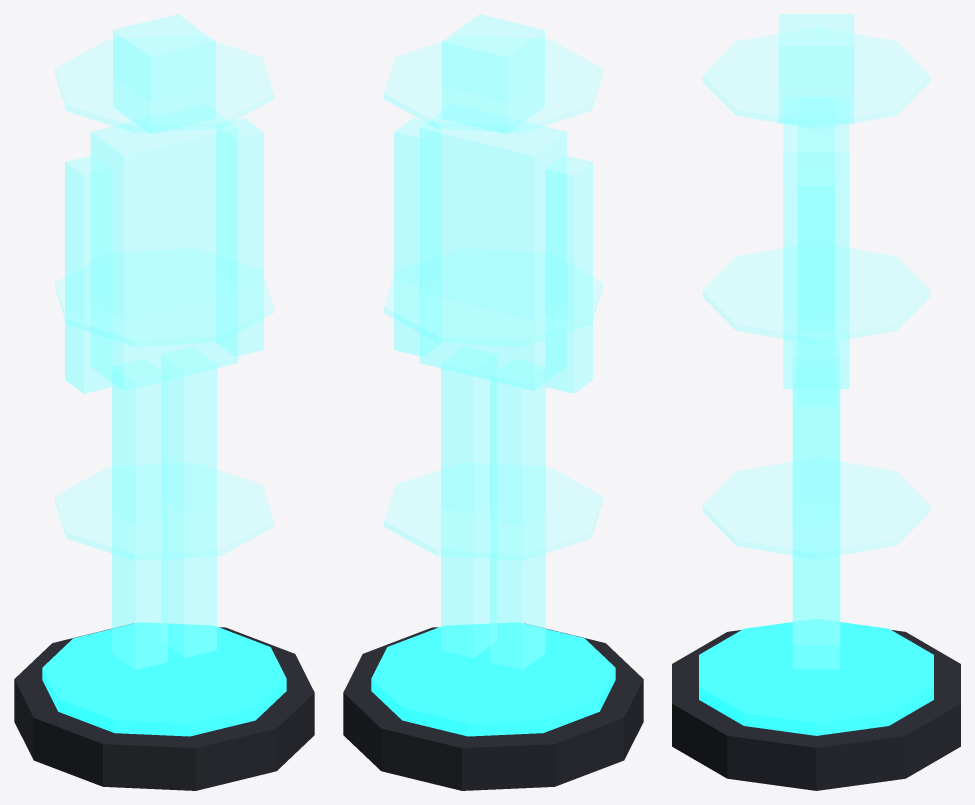
File: cyb-holograma.gltf
The picture shows the model from 3 angles, left to right: view 1: azimuth 30°, elevation 25°; view 2: azimuth 150°, elevation 25°; view 3: azimuth 270°, elevation 25°; orthographic projection.
Parts seen in each view (by area): view 1: cyb-holograma; view 2: cyb-holograma; view 3: cyb-holograma.
Boxes of the visible parts, x1,y1,x2,y2 form: cyb-holograma: (14,14,314,790); cyb-holograma: (343,14,643,790); cyb-holograma: (672,14,960,790).
Bounding box in the file's own units: 0.64 × 1.62 × 0.6087.
